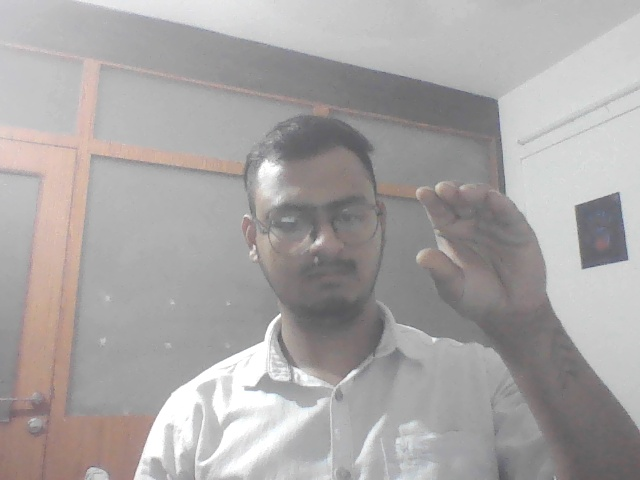NO: (403, 179, 574, 345)
